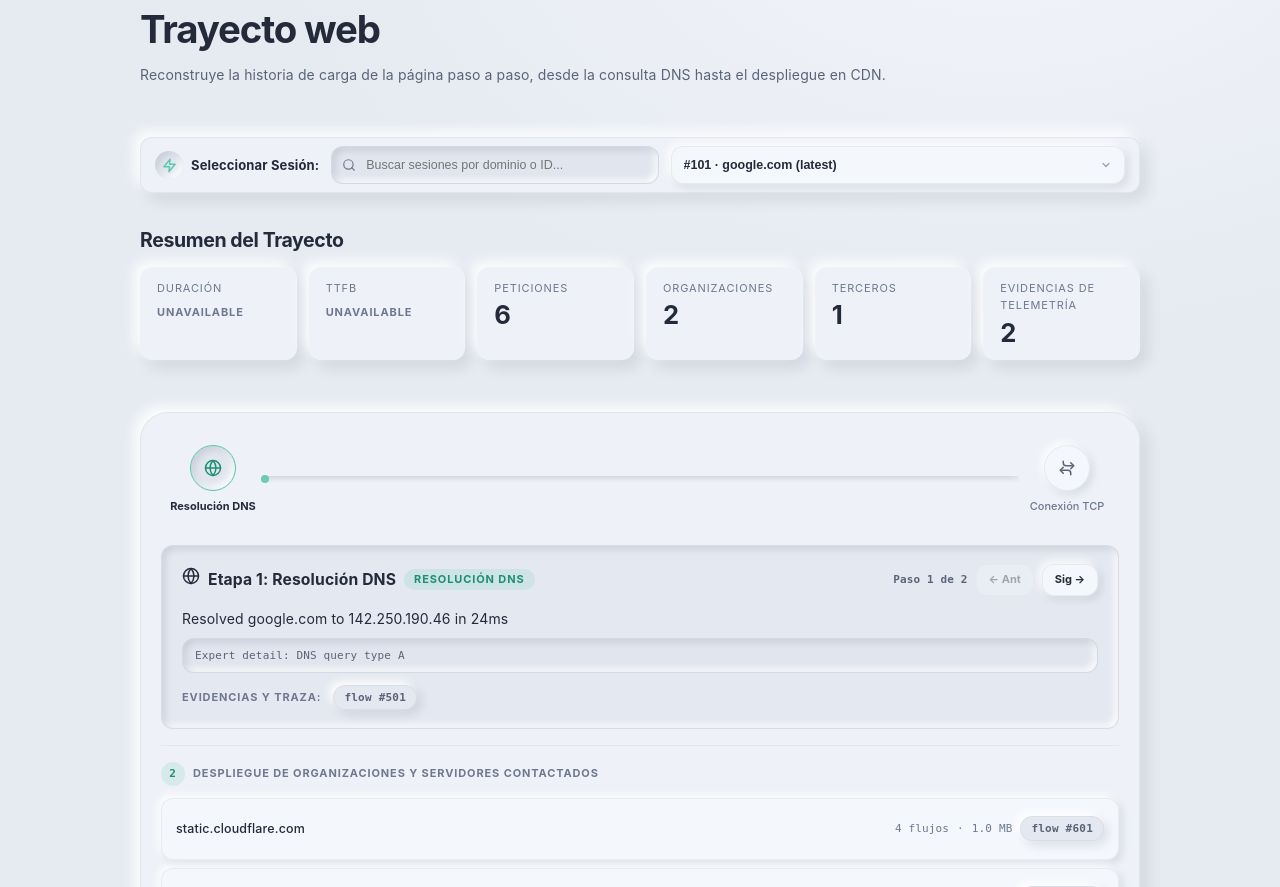
Test: Journey Screen & useJourneyController › translates stepper controls, headers, and stage badges when switched to Spanish
The image size is (1280, 887).
Expected: the element named "Pasos del trayecto web" is shown, [161,433,1119,529]
Expected: the tab with aria-label "Etapa 1: Resolución DNS" is shown, [165,441,261,517]
# Advance Stepper to Next Stage (Stage 2: Connection)
Click the button with aria-label "Etapa siguiente del trayecto": click(1070, 580) [1042,564,1098,596]
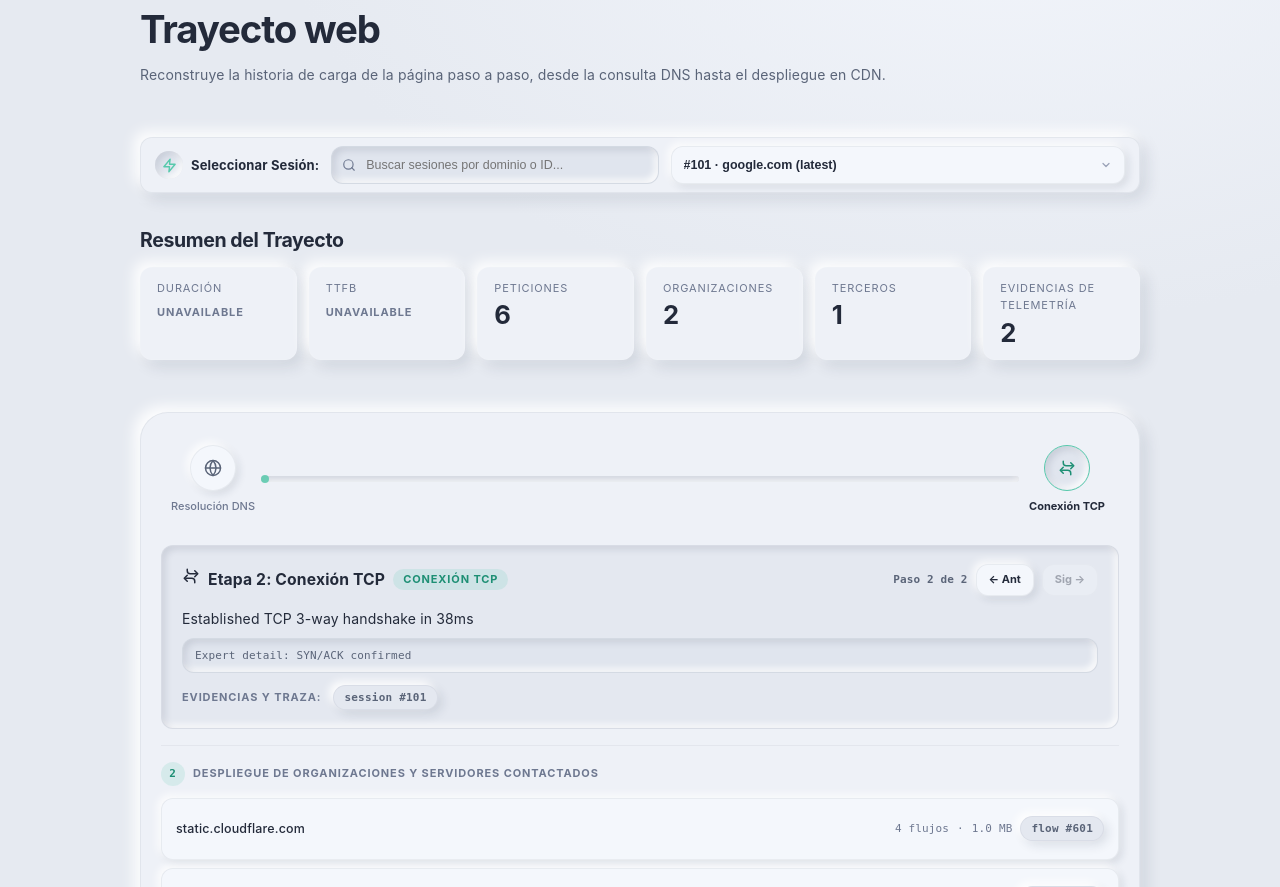
Expected: the text "Etapa 2: Conexión TCP" is shown, [208,568,385,592]
Expected: the text with class "np-jflow__readout-badge" reads "Conexión TCP", [403,572,498,586]
Expected: the text "Paso 2 de 2" is shown, [893,571,968,588]
